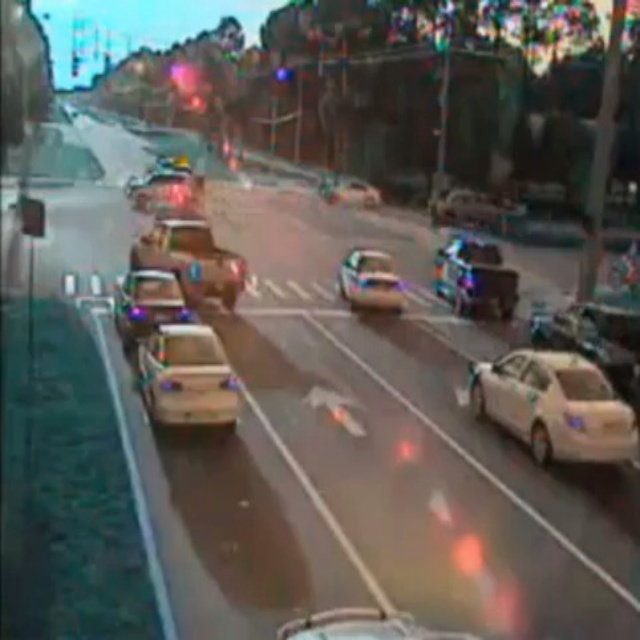acc: (118, 142, 216, 218)
